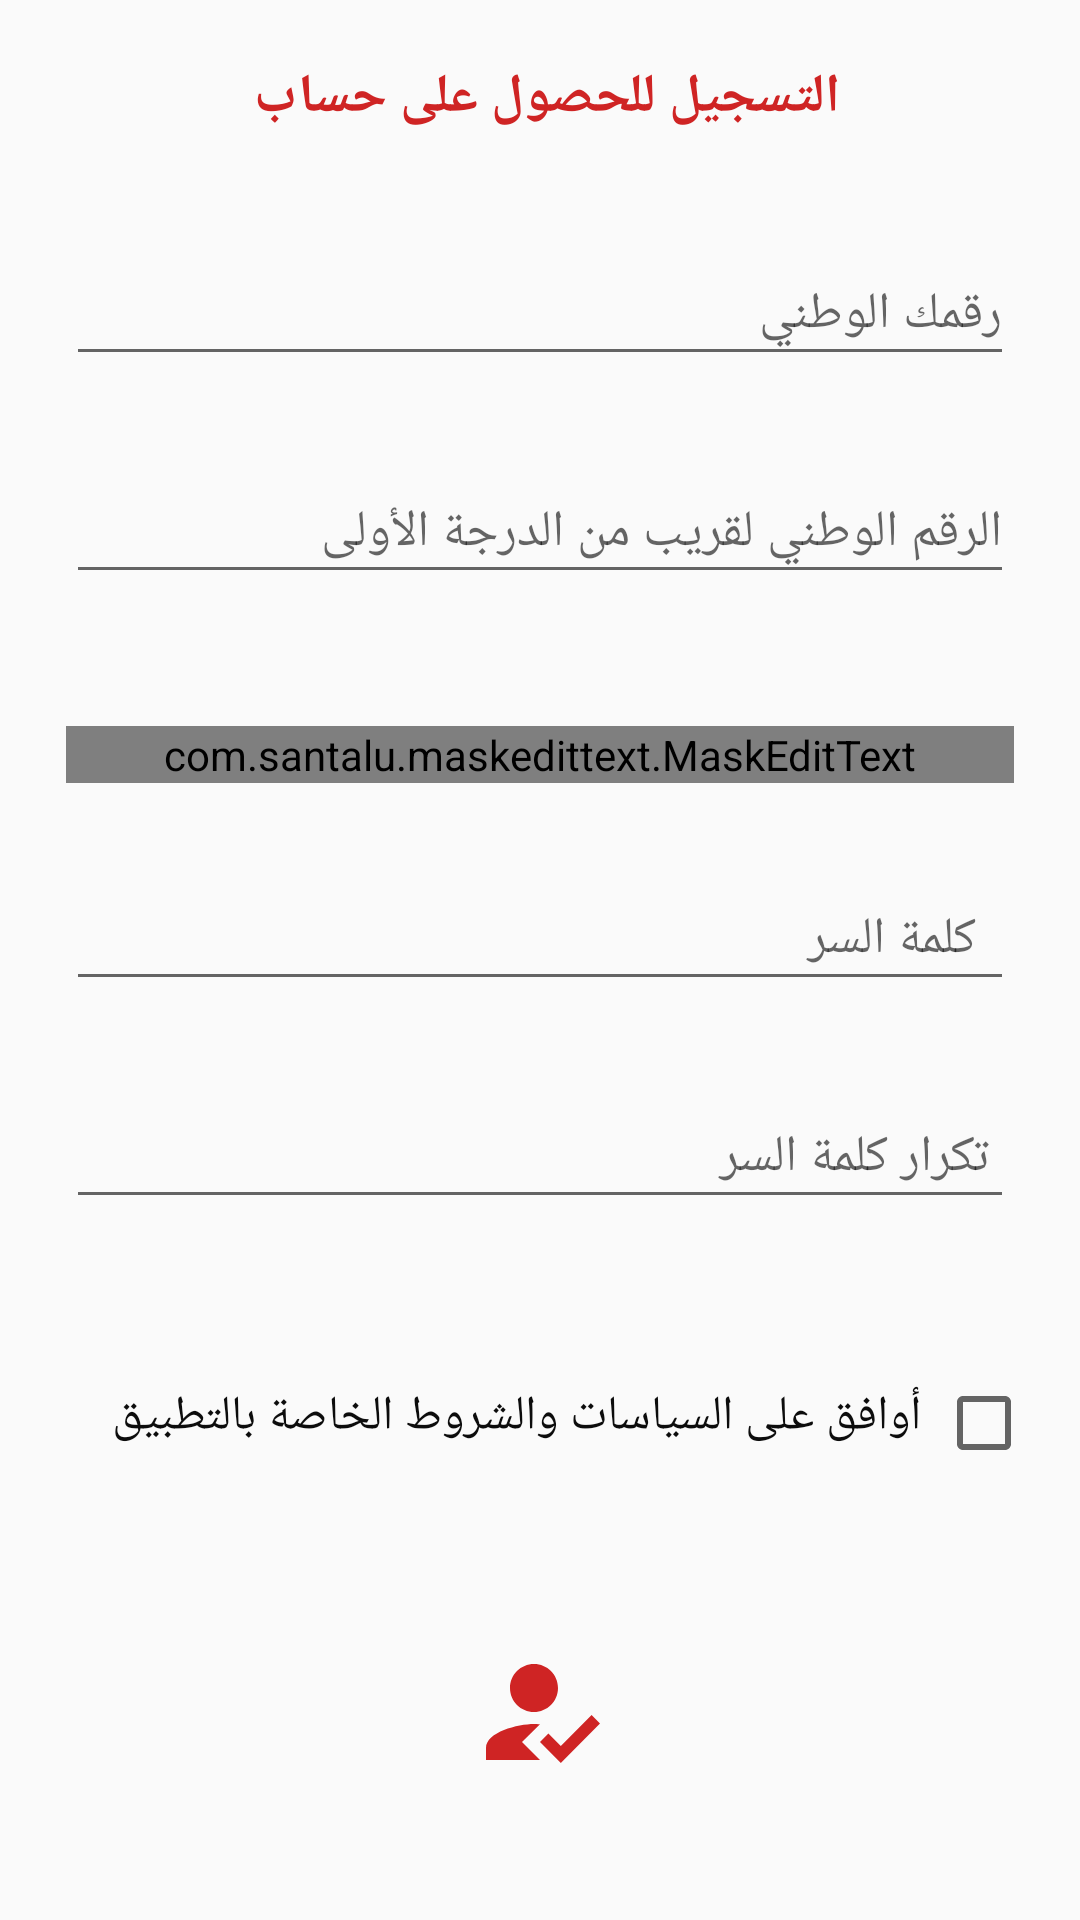

Where icons sit on this 1080x1920 app screen, as bbox=[x1, y1, x2, y2]:
reg: bbox=[486, 1664, 600, 1763]
